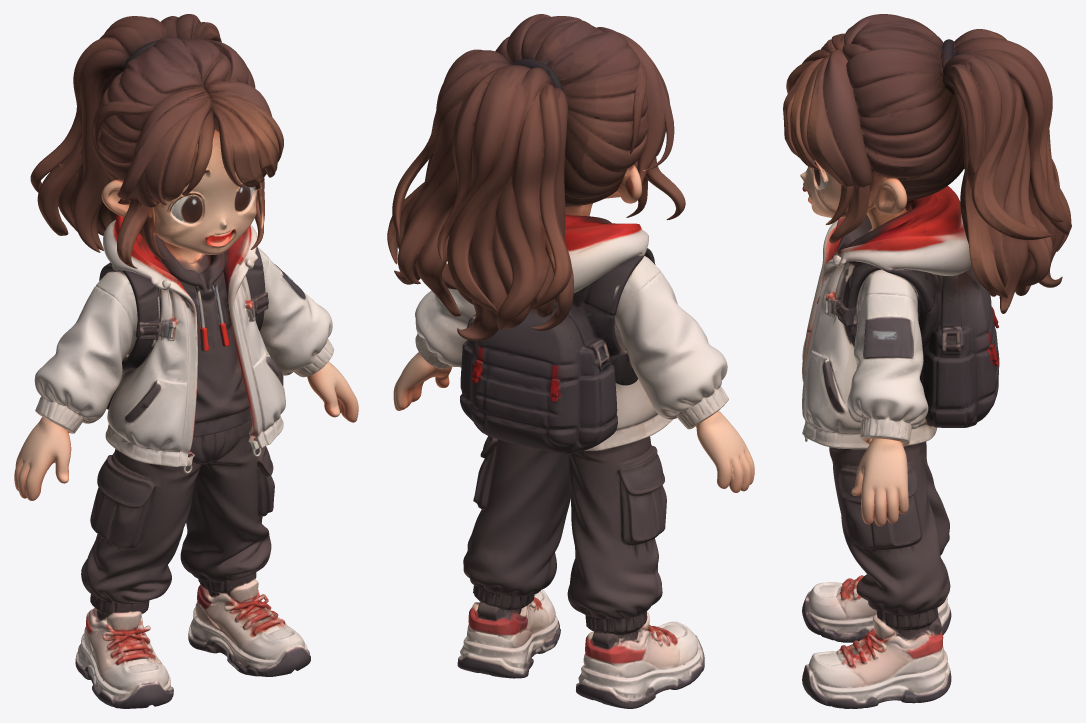
File: avatar-white-hd.glb
The picture shows the model from 3 angles, left to right: view 1: azimuth 30°, elevation 25°; view 2: azimuth 150°, elevation 25°; view 3: azimuth 270°, elevation 25°; orthographic projection. The views are drawn at different scales.
Visible parts, largest first — view 1: node_0; view 2: node_0; view 3: node_0.
Part boxes in pixels (bbox=[...]): node_0: bbox=[14, 14, 358, 708]; node_0: bbox=[387, 14, 754, 708]; node_0: bbox=[783, 14, 1071, 708].
Size of the model in its own units: 0.6299 by 1.11 by 0.4568.
1 material, 1 textured.
